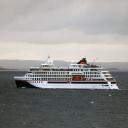cruises: (14, 57, 120, 92)
